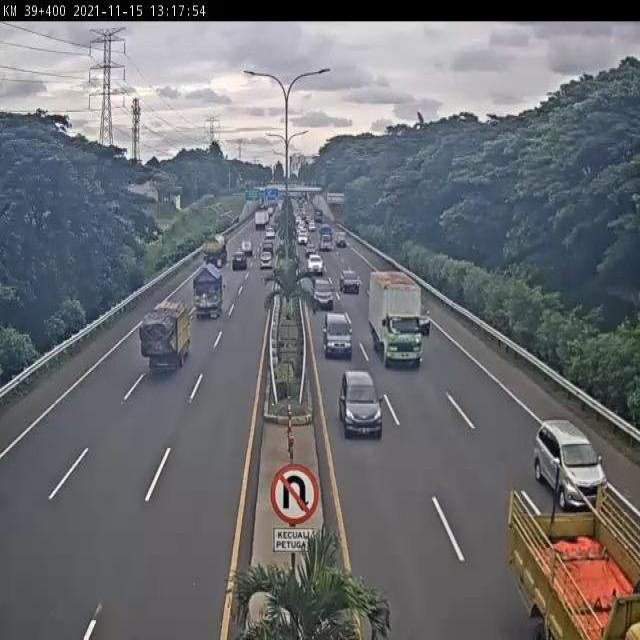truck-m-: (367, 271, 424, 368), (140, 301, 191, 375), (192, 265, 226, 319)
